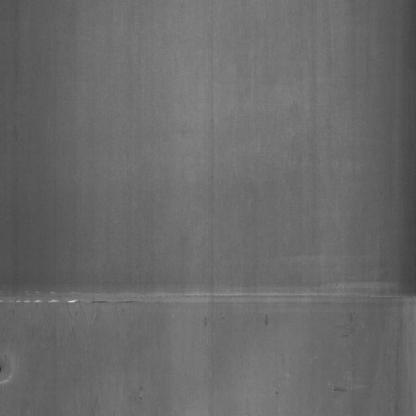welding_line: (1, 279, 416, 320)
